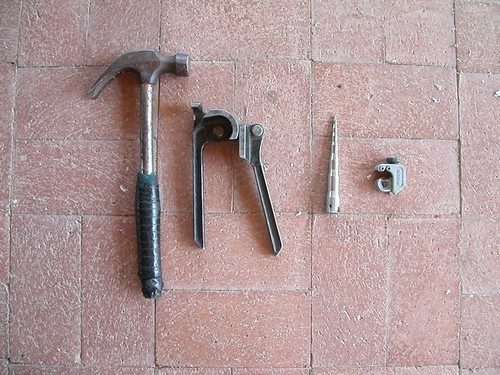hammer: (88, 48, 191, 299)
